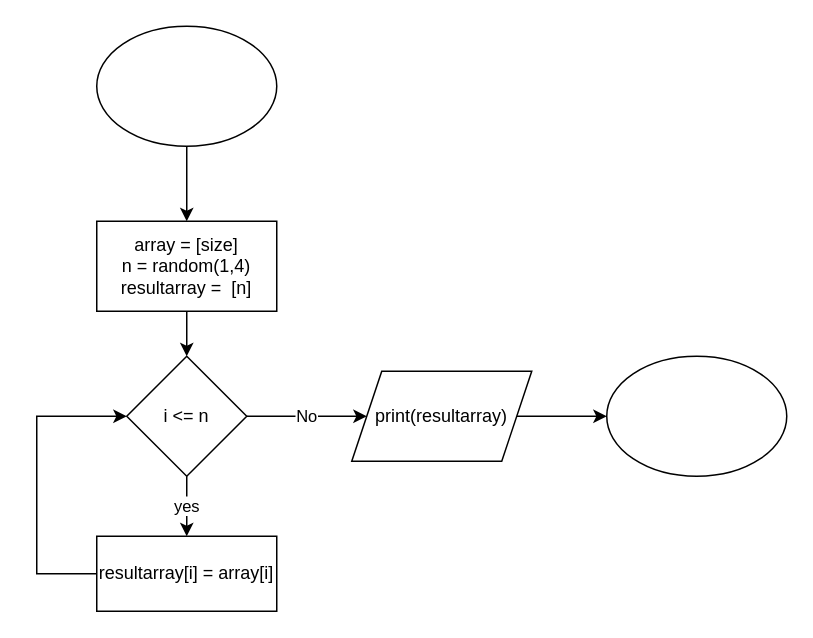
This 813x638 diagram has some shape labels left out. The centre of each missing label's shape, as x and y in pixels:
end: the point at 696,415
start: the point at 186,85
